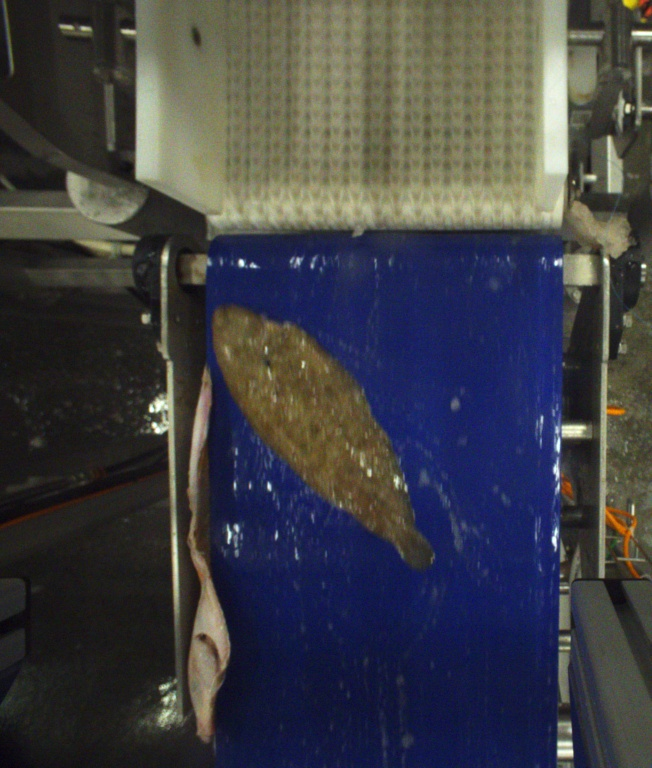SOL: (212, 305, 438, 573)
